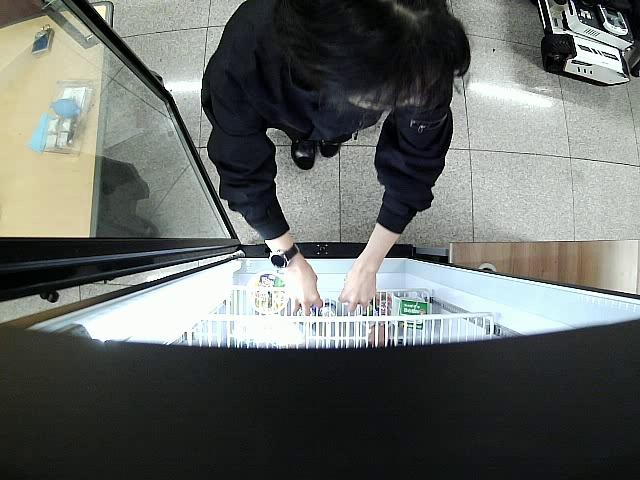00_hand: (285, 266, 326, 318), (339, 259, 377, 312)
